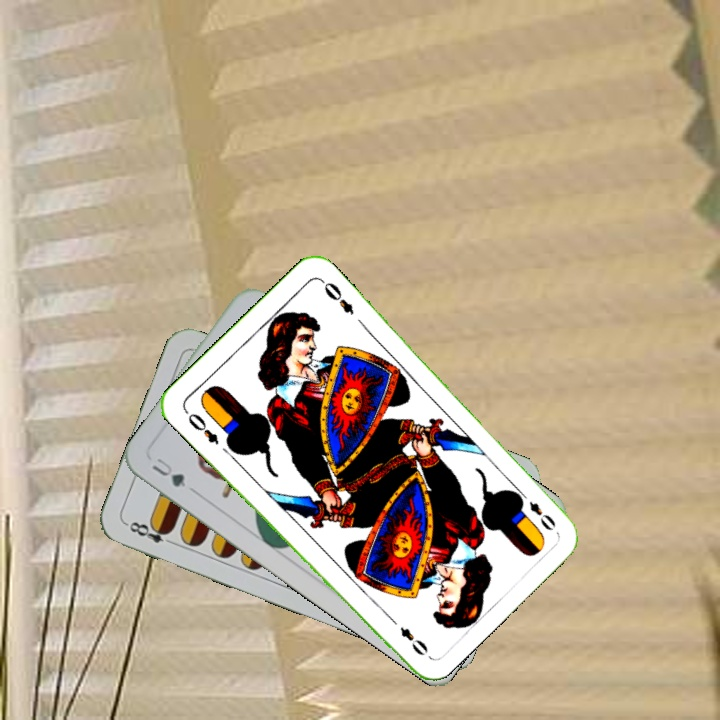E8: (122, 517, 178, 548)
EO: (513, 486, 558, 534), (180, 406, 222, 447)
GU: (148, 454, 189, 490)
